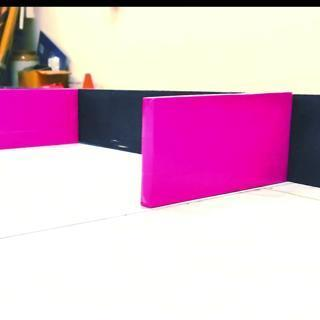xparking: (142, 98, 290, 202), (0, 90, 79, 150)
